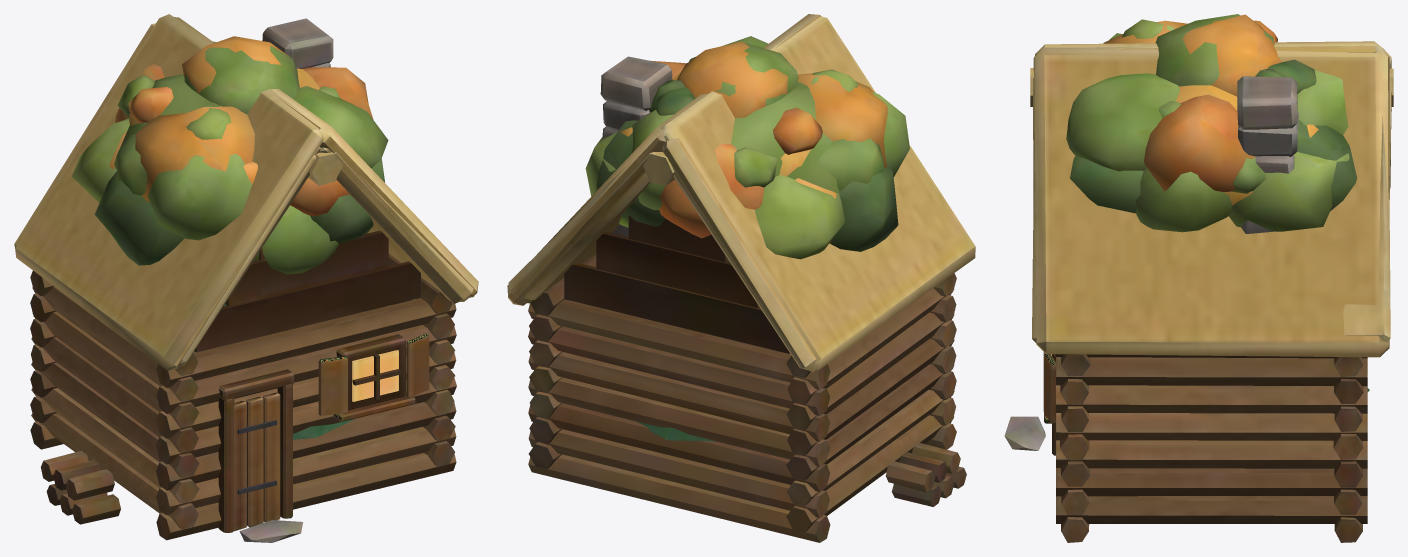
Rendered from env-thorn-path.low.glb.
3 renders of one model, left to right at view 1: azimuth 30°, elevation 25°; view 2: azimuth 150°, elevation 25°; view 3: azimuth 270°, elevation 25°, orthographic. The views are drawn at different scales.
Visible parts, largest first — view 1: hut, tree-green, tree; view 2: hut, tree-green, tree, pine; view 3: hut, tree, tree-green.
Boxes of the visible parts, x1=… form: hut: x1=14, y1=14, x2=478, y2=542; tree-green: x1=72, y1=41, x2=384, y2=274; tree: x1=109, y1=36, x2=388, y2=215; hut: x1=507, y1=14, x2=975, y2=542; tree-green: x1=596, y1=43, x2=909, y2=259; tree: x1=585, y1=36, x2=887, y2=243; pine: x1=637, y1=260, x2=728, y2=441; hut: x1=1004, y1=41, x2=1393, y2=542; tree: x1=1066, y1=14, x2=1349, y2=231; tree-green: x1=1070, y1=14, x2=1356, y2=232.
Bounding box in the file's own units: 2.74 × 3.22 × 2.42.
Materials: 2 (2 with a texture image).
